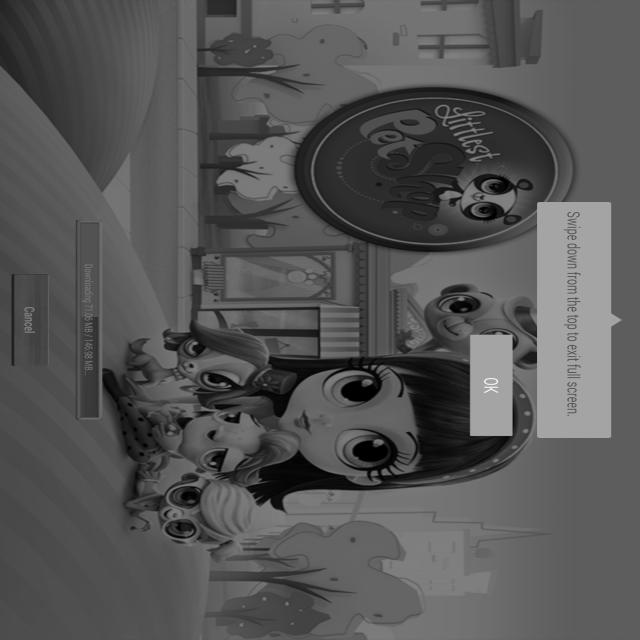Button: (463, 332, 522, 441), (11, 269, 56, 371)
ImageView: (133, 26, 445, 605)
TextView: (555, 207, 592, 417)
